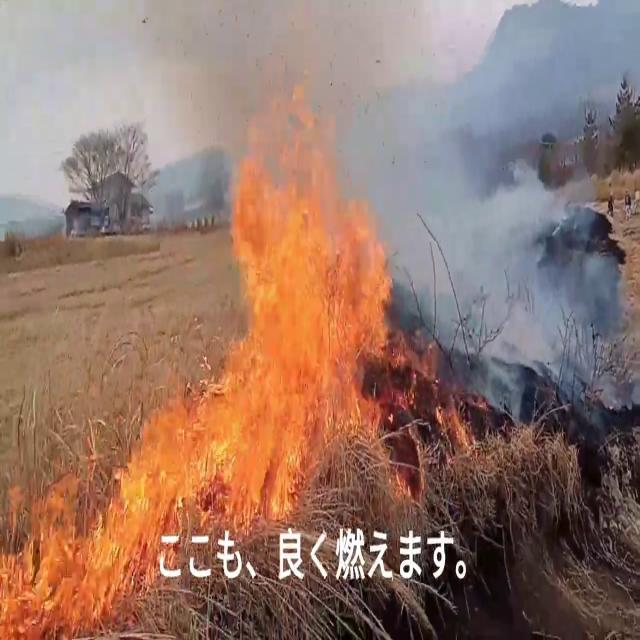Fire: (191, 97, 415, 511)
Smoke: (328, 0, 624, 367)
